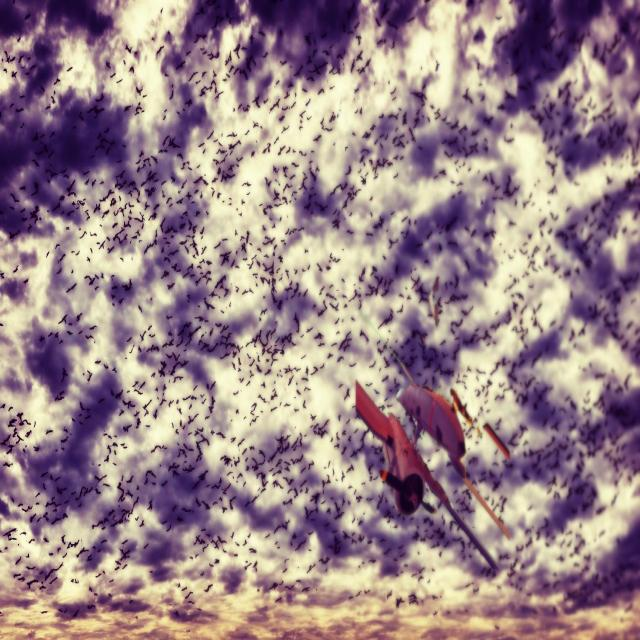airplane: (354, 352, 511, 574)
